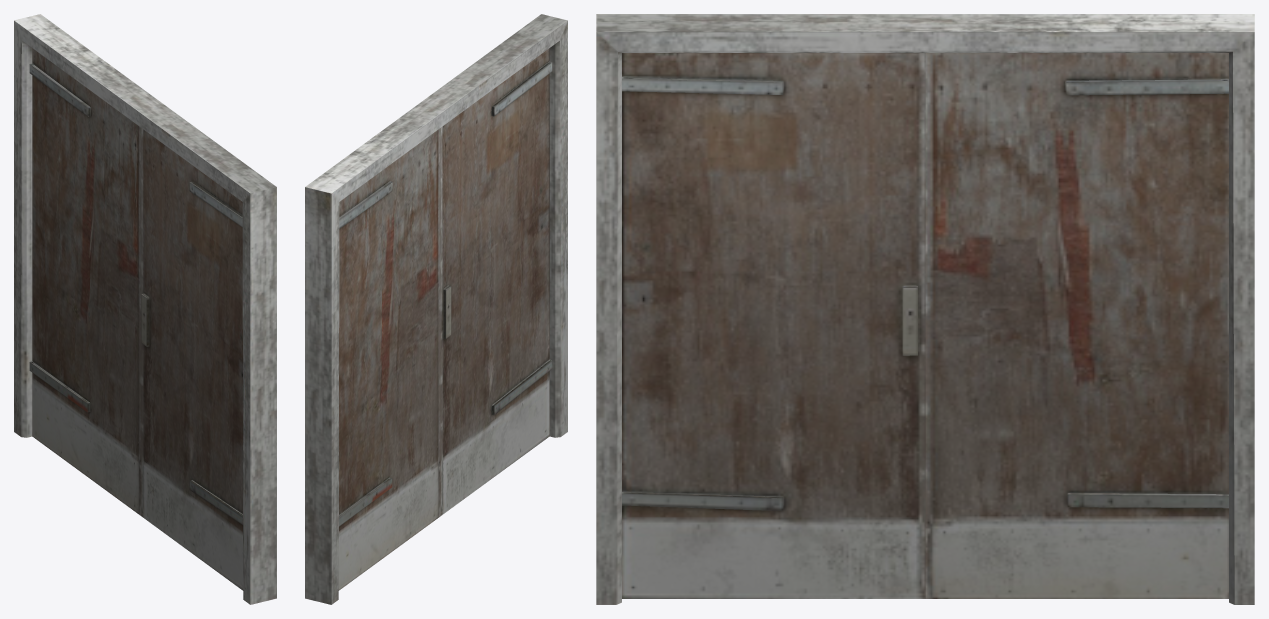
Rendered from Wooden_DoubleDoorSet.FBX.
3 renders of one model, left to right at view 1: azimuth 30°, elevation 25°; view 2: azimuth 150°, elevation 25°; view 3: azimuth 270°, elevation 25°, orthographic. The views are drawn at different scales.
Parts seen in each view (by area): view 1: Wooden_DoubleDoor_R, Wooden_DoubleDoor_L, Wooden_DoubleDoorFrame; view 2: Wooden_DoubleDoor_L, Wooden_DoubleDoor_R, Wooden_DoubleDoorFrame; view 3: Wooden_DoubleDoor_R, Wooden_DoubleDoor_L, Wooden_DoubleDoorFrame.
Boxes of the visible parts, x1,y1,x2,y2 form: Wooden_DoubleDoor_R: (29, 48, 141, 515); Wooden_DoubleDoor_L: (141, 128, 243, 590); Wooden_DoubleDoorFrame: (14, 14, 276, 604); Wooden_DoubleDoor_L: (440, 48, 552, 515); Wooden_DoubleDoor_R: (338, 128, 440, 590); Wooden_DoubleDoorFrame: (305, 14, 567, 604); Wooden_DoubleDoor_R: (925, 53, 1228, 598); Wooden_DoubleDoor_L: (622, 53, 925, 598); Wooden_DoubleDoorFrame: (596, 14, 1254, 604).
Size of the model in its own units: 15 by 223 by 232.
